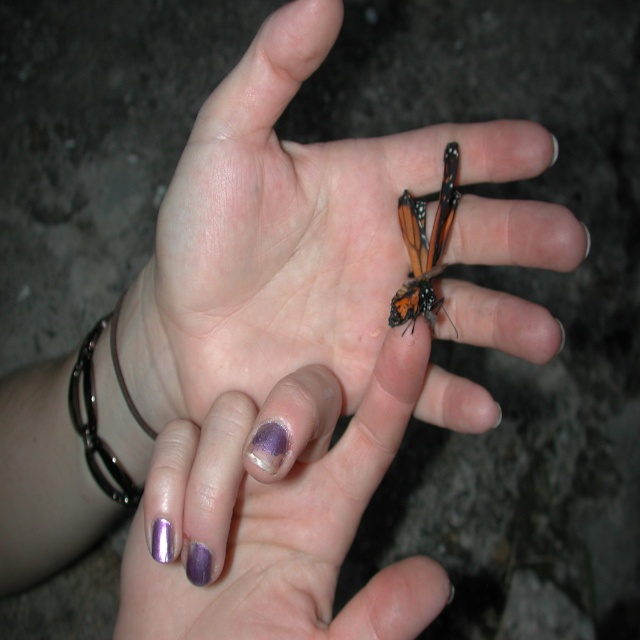Butterfly: (388, 141, 462, 337)
